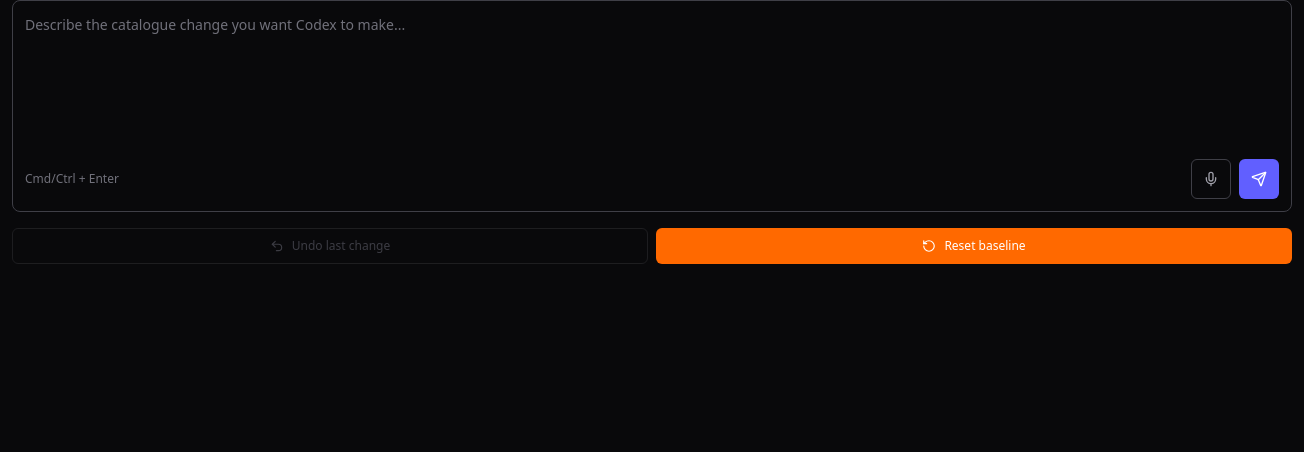
Test: FeatureRequest › preserves the prompt when the app-server reports a failed completed turn
This screenshot has width=1304, height=452.
In the text box with placeholder "Describe the catalogue change you want Codex to make...": (652, 77) [25, 13, 1279, 141], type "Add filters"
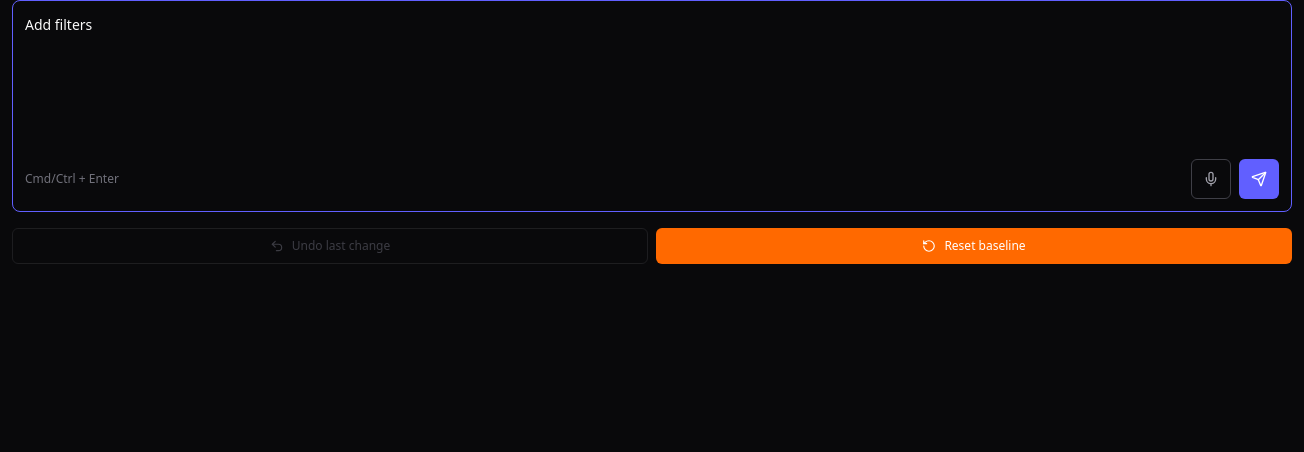
Click the button named "Submit feature request": (1259, 179) [1239, 159, 1279, 199]
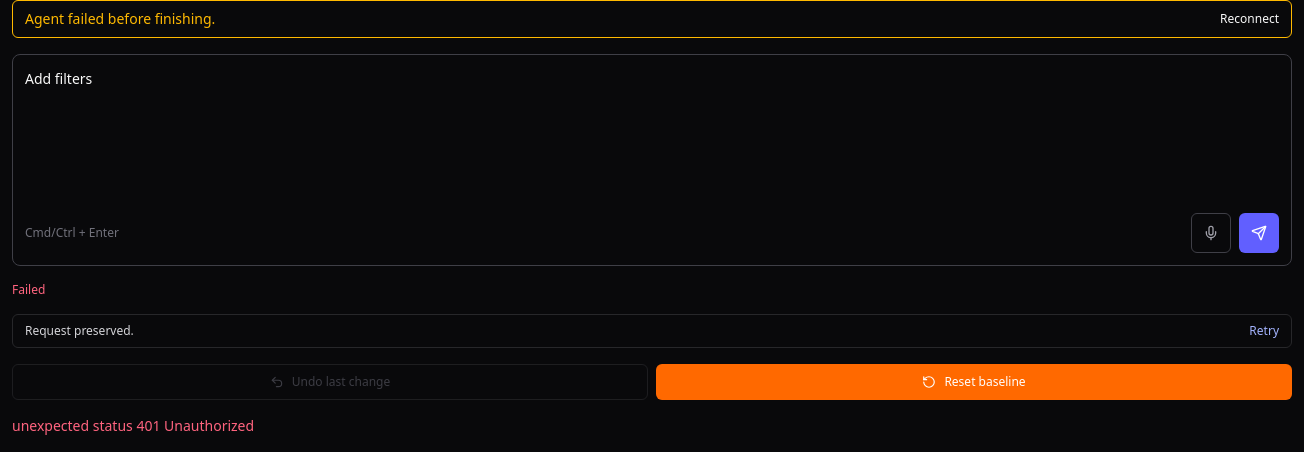
Check: the text "unexpected status 401 Unauthorized" is shown, box [12, 416, 254, 435]
Check: the text "Failed" is shown, box [12, 281, 45, 298]
Check: the button "Retry" is enabled, box [1249, 323, 1279, 339]
